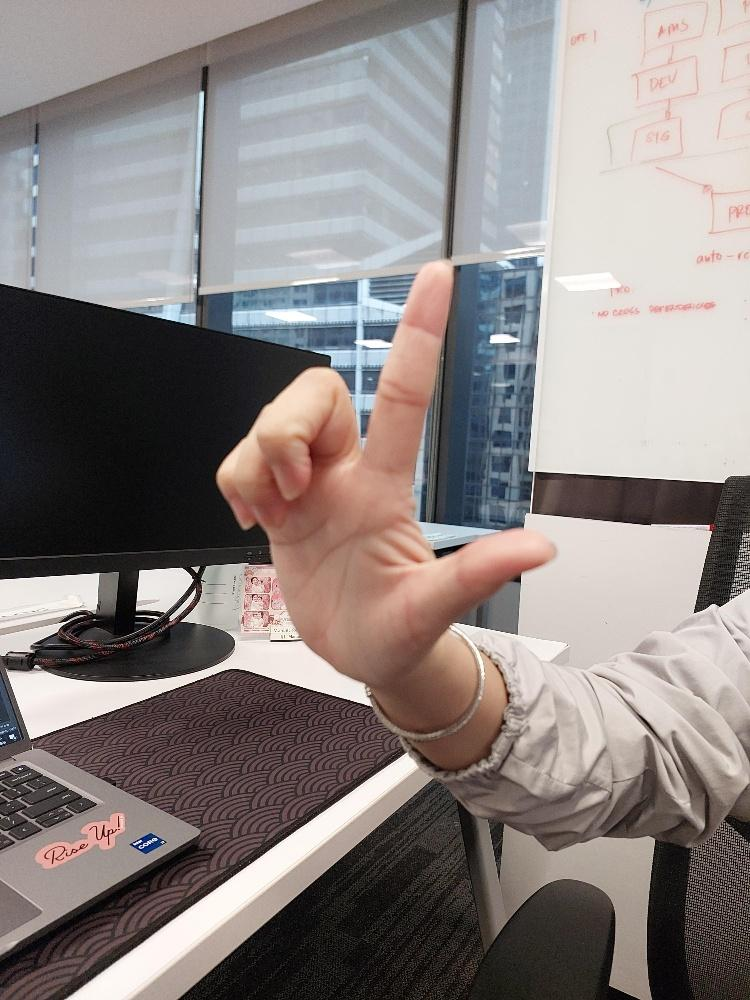l: (213, 256, 555, 676)
